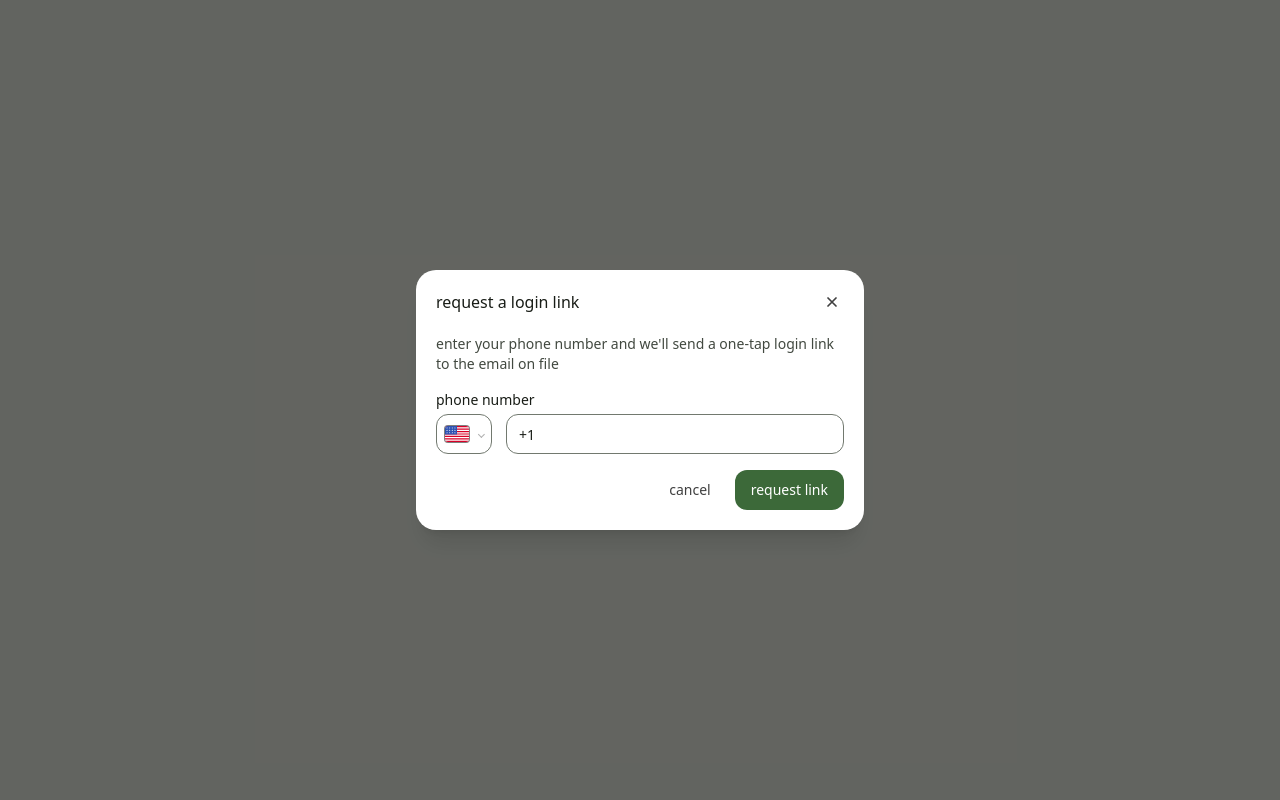
RequestLoginLinkDialog › shows a distinct cooldown warning that says no new link was sent
Replace the text in the field labelled "phone number" with "+12025550101". click: [675, 434]
box: [506,414,844,454]
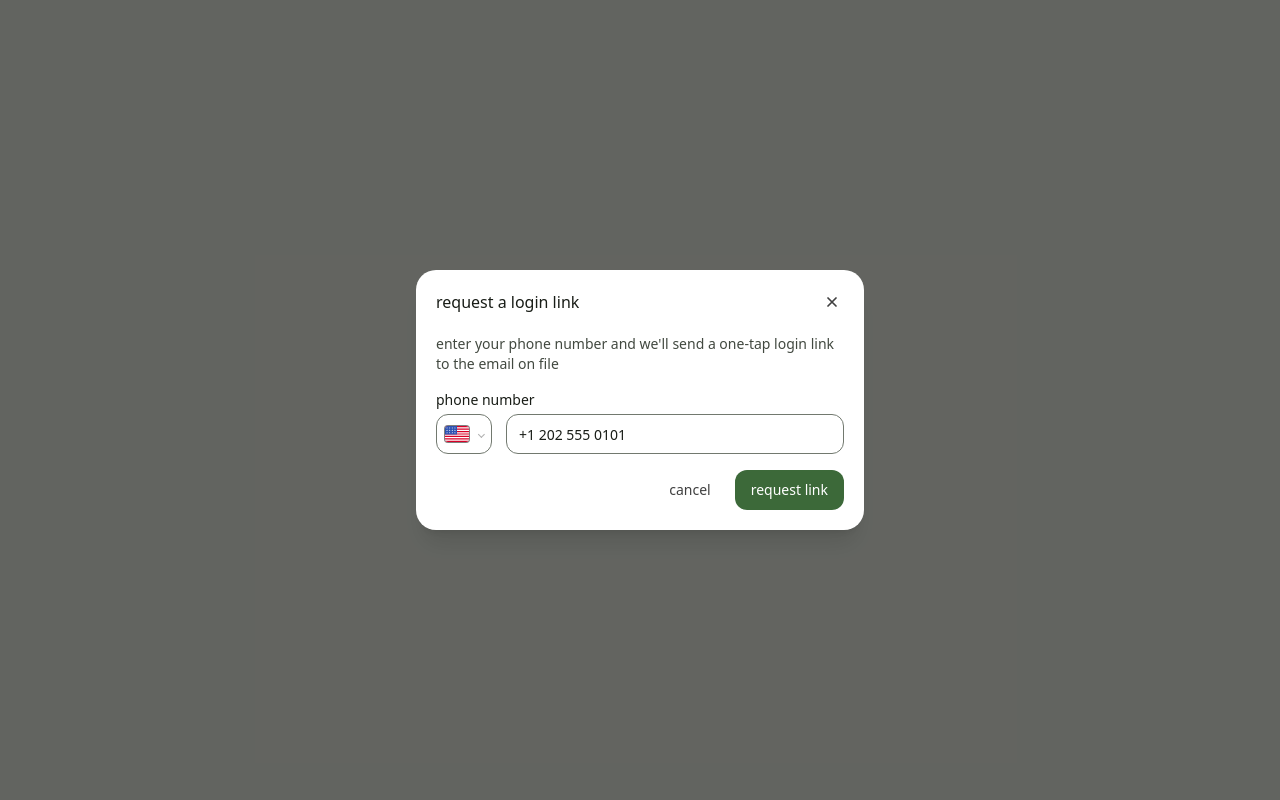
Click the button "request link". click: [789, 490]
box: [735,470,844,510]
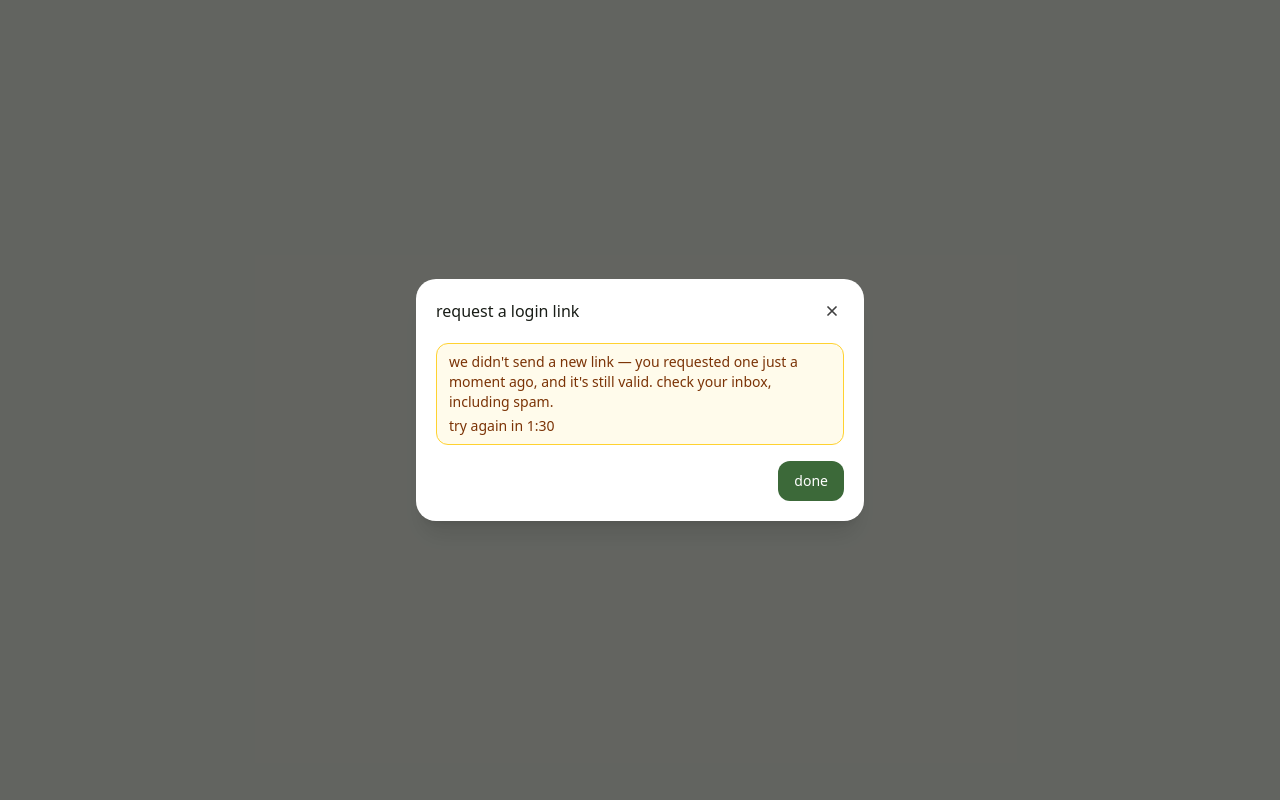
Expected: the message shows "didn't send a new link", [449,352,798,411]
Expected: the message shows "1:30", [527,416,555,435]
